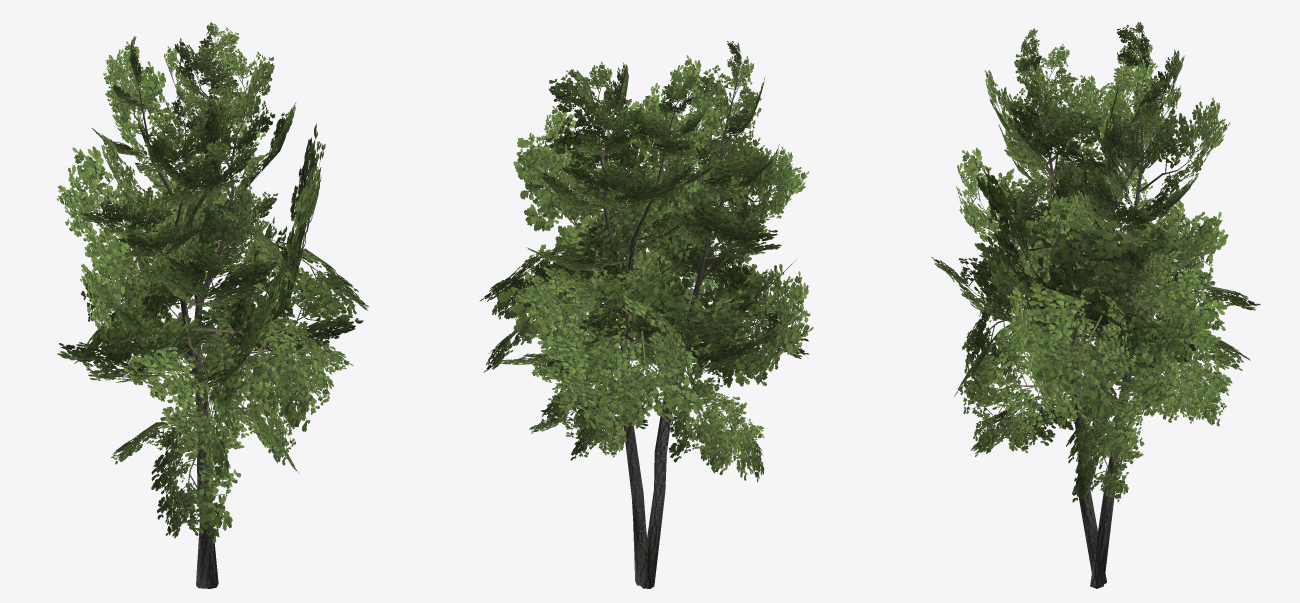
Rendered from tree15.fbx.
3 renders of one model, left to right at view 1: azimuth 30°, elevation 25°; view 2: azimuth 150°, elevation 25°; view 3: azimuth 270°, elevation 25°, orthographic.
Visible parts, largest first — view 1: Tree-03-1; view 2: Tree-03-1; view 3: Tree-03-1.
Boxes of the visible parts, <box> form: Tree-03-1: <box>56,21,368,588</box>; Tree-03-1: <box>479,41,813,588</box>; Tree-03-1: <box>931,21,1260,588</box>.
Size of the model in its own units: 600 by 878 by 573.
